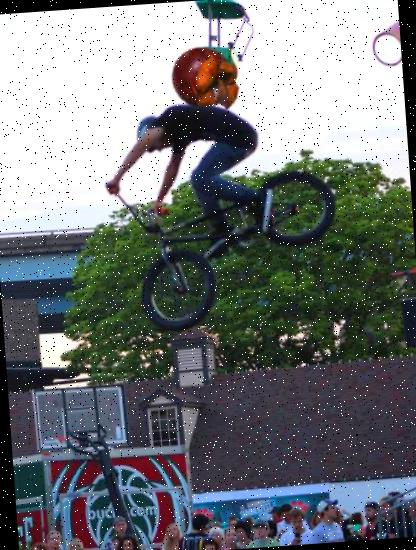Mangostan: (167, 40, 246, 119)
